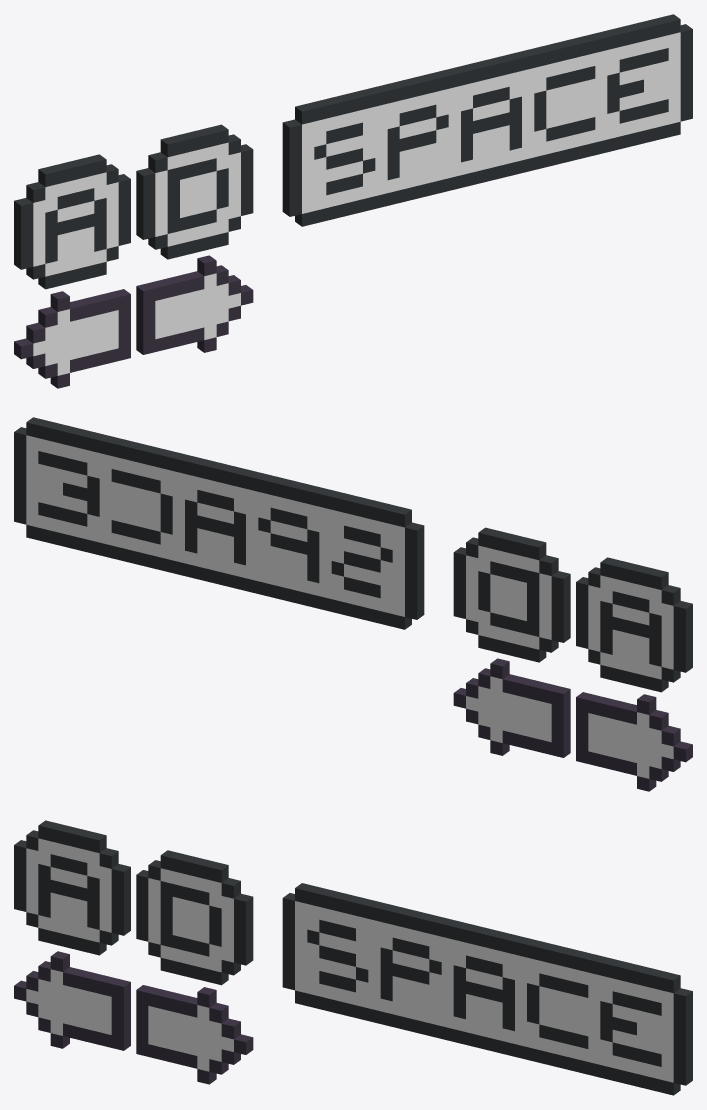
Rendered from controles.obj.
3 views of the same model, one above another, from view 1: azimuth 30°, elevation 25°; view 2: azimuth 150°, elevation 25°; view 3: azimuth 330°, elevation 25° (orthographic).
Bounding box in the file's own units: 5.5 × 1.7 × 0.1.
Materials: 1 (1 with a texture image).
